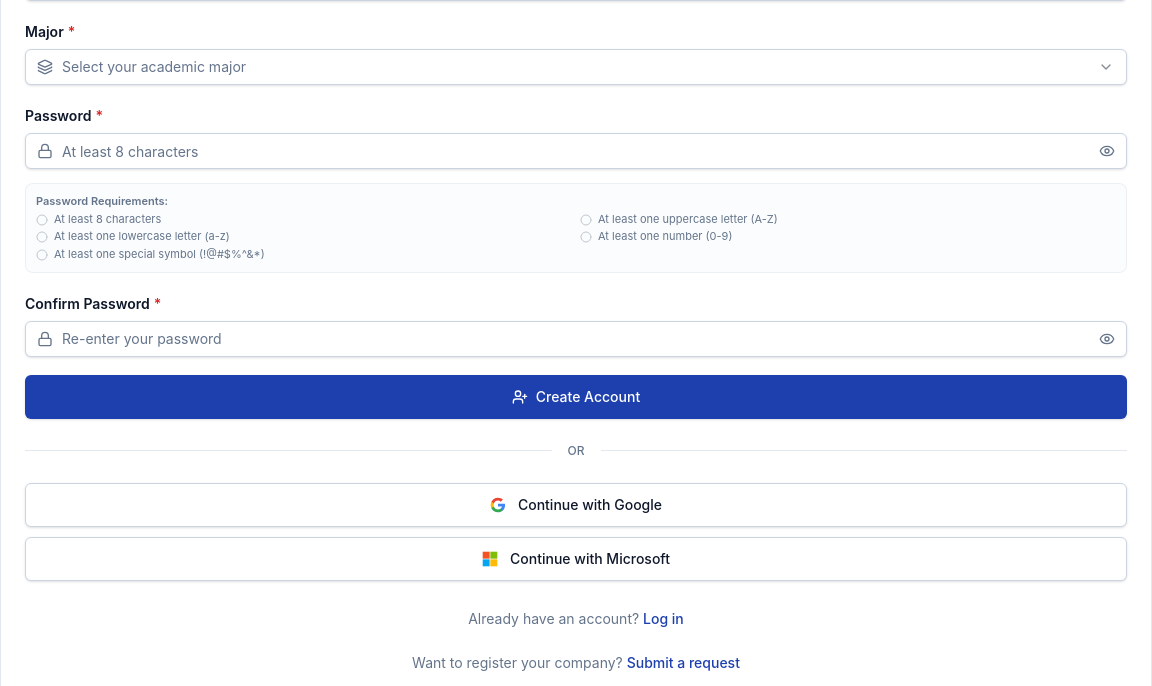
it: RegisterForm Component › shows validation errors when submitting an empty form
This screenshot has width=1152, height=686.
(page scrolled)
Click the button "Create Account": (576, 397) x1=25 y1=375 x2=1127 y2=419
(page scrolled)
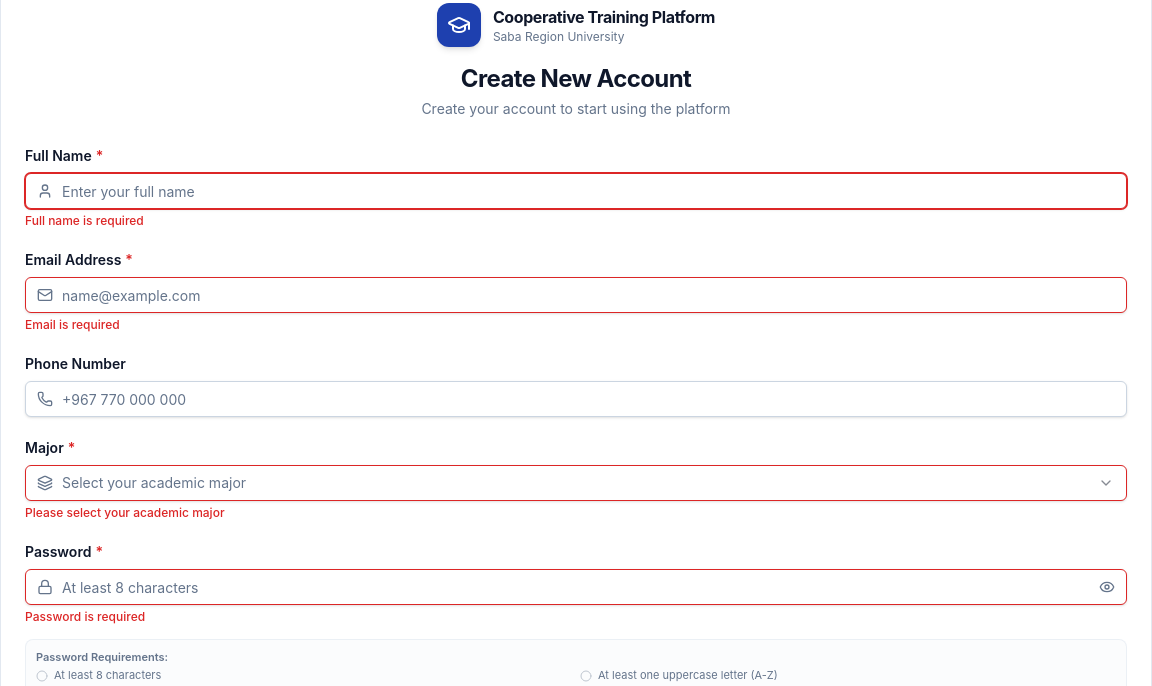
Expected: the text "Full name is required" is shown, x1=25 y1=213 x2=144 y2=228
Expected: the text "Email is required" is shown, x1=25 y1=317 x2=120 y2=332
Expected: the text "Password is required" is shown, x1=25 y1=609 x2=145 y2=624
